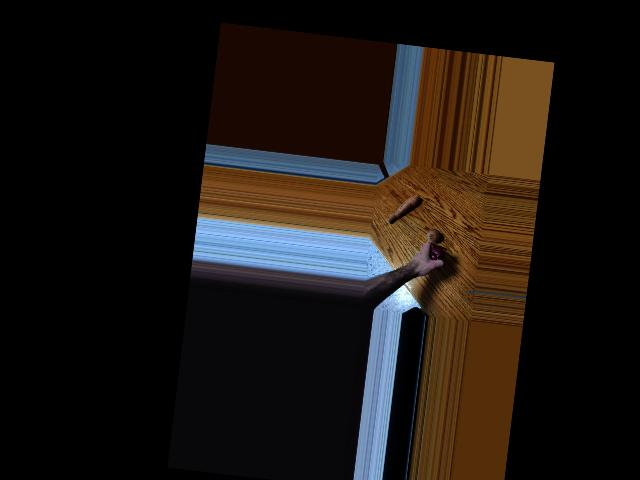onion: (424, 226, 442, 246)
